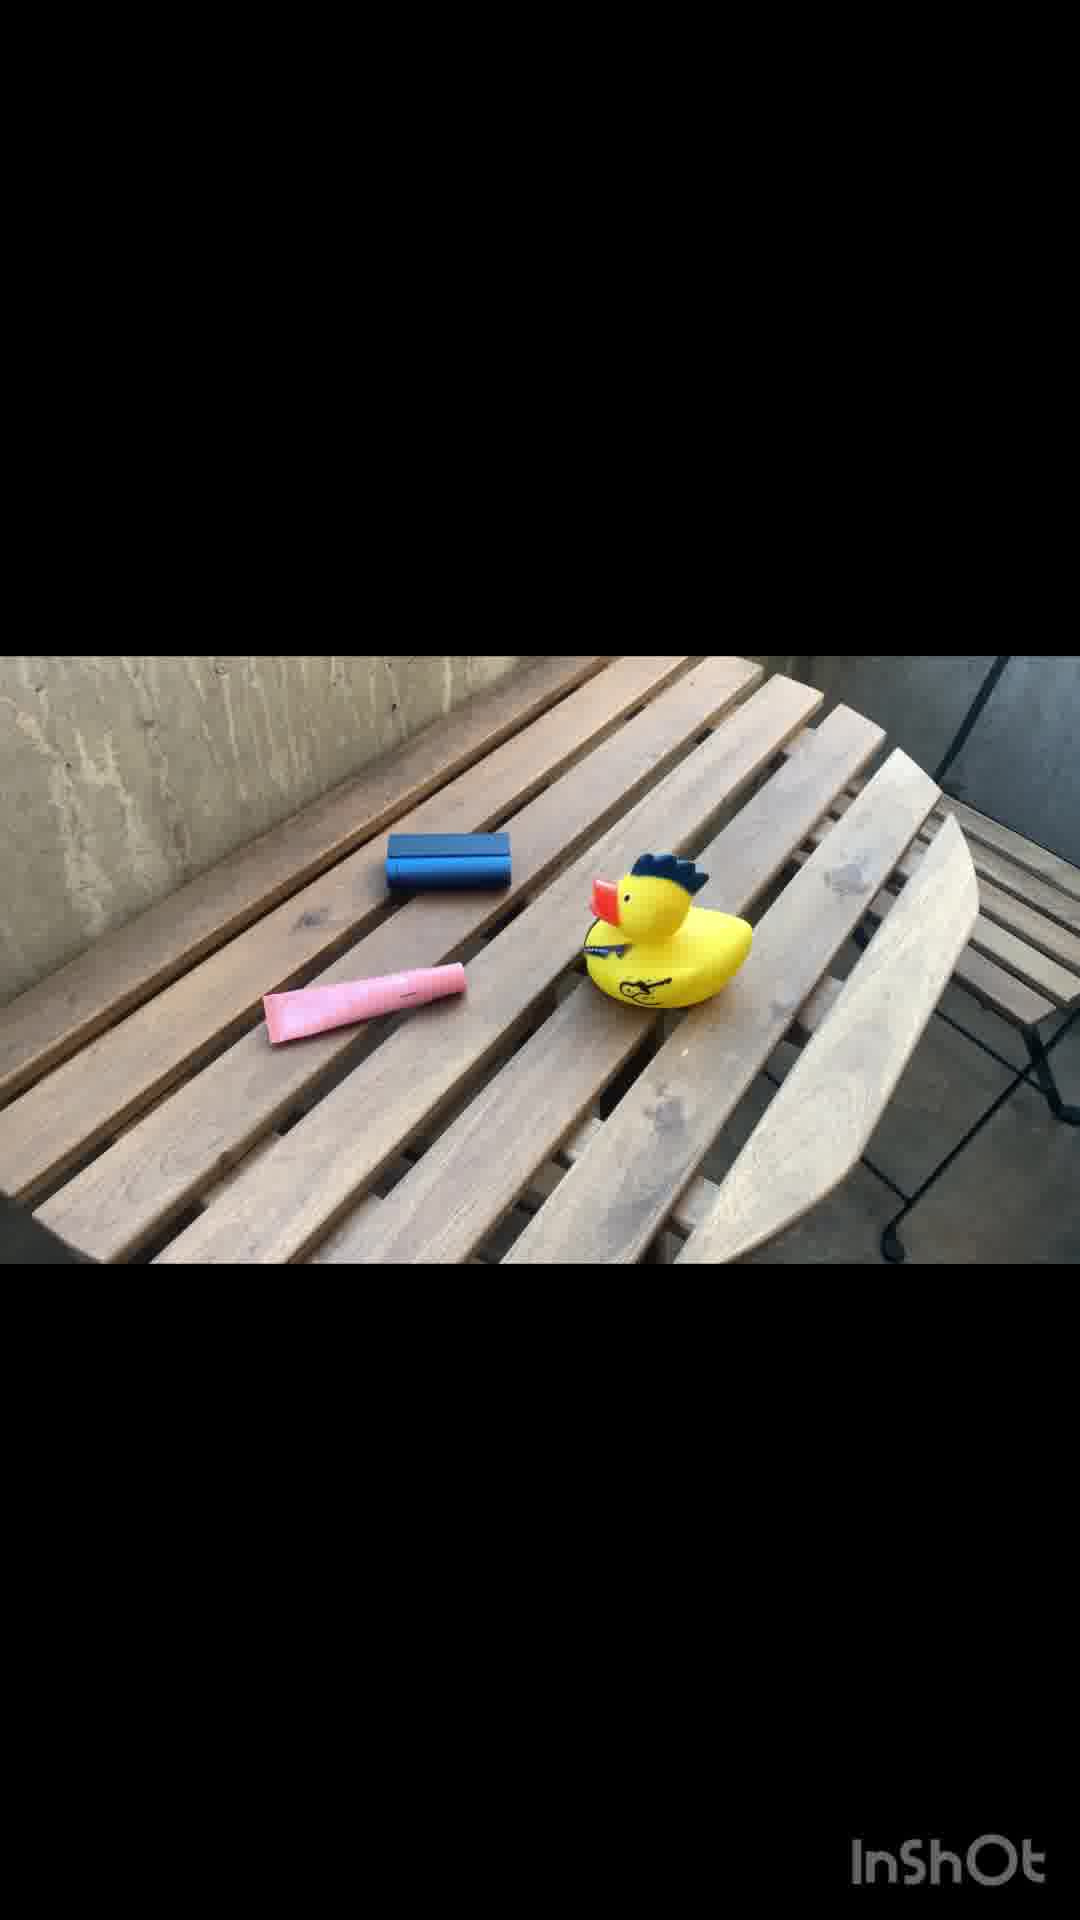glo: (574, 849, 760, 1011), (372, 823, 518, 903)
lip balm: (256, 949, 477, 1044)
